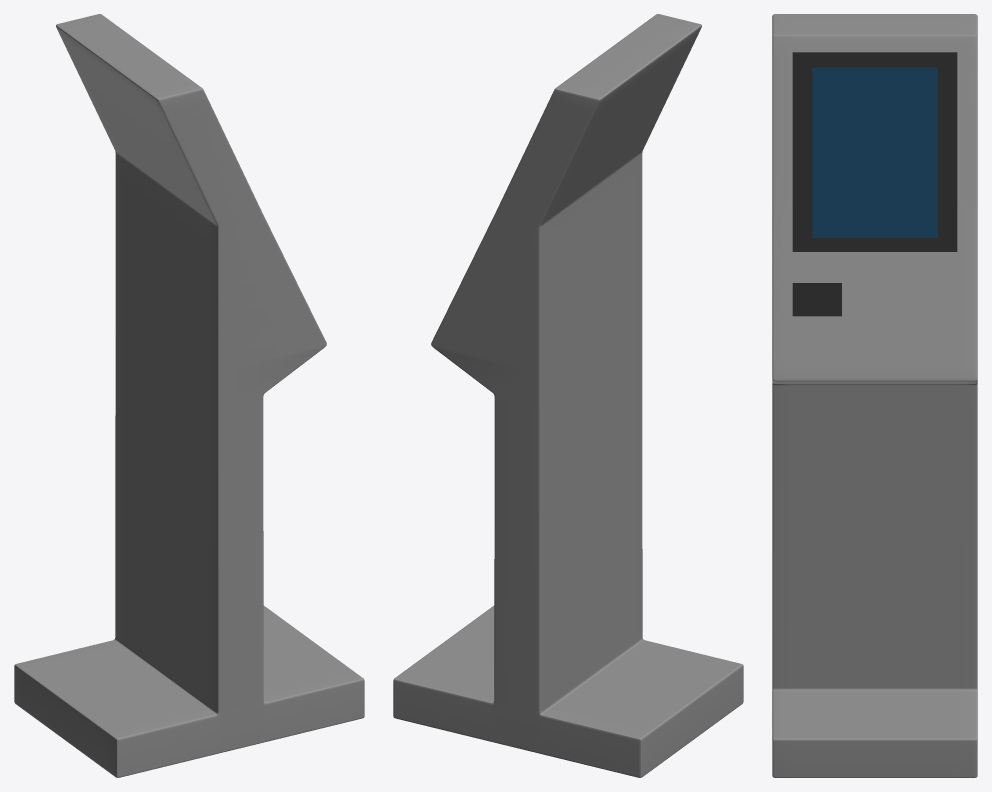
File: CardTerminal_Stand.fbx
3 views of the same model, side by side, from view 1: azimuth 30°, elevation 25°; view 2: azimuth 150°, elevation 25°; view 3: azimuth 270°, elevation 25° (orthographic).
Parts seen in each view (by area): view 1: pCube1; view 2: pCube1; view 3: pCube1.
Part boxes in pixels (left/top/right/bottom): pCube1: left=14, top=14, right=364, bottom=777; pCube1: left=393, top=14, right=743, bottom=777; pCube1: left=772, top=14, right=977, bottom=777.
Size of the model in its own units: 55.51 by 143 by 40.
